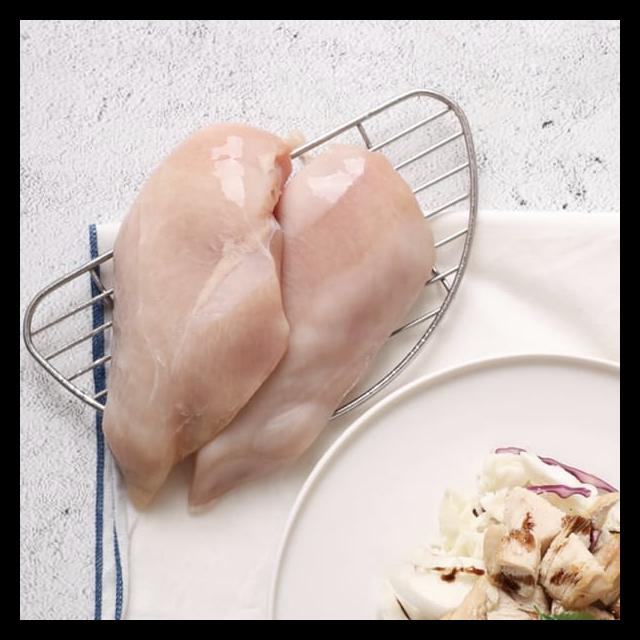chicken: (189, 141, 436, 514), (101, 119, 291, 506)
